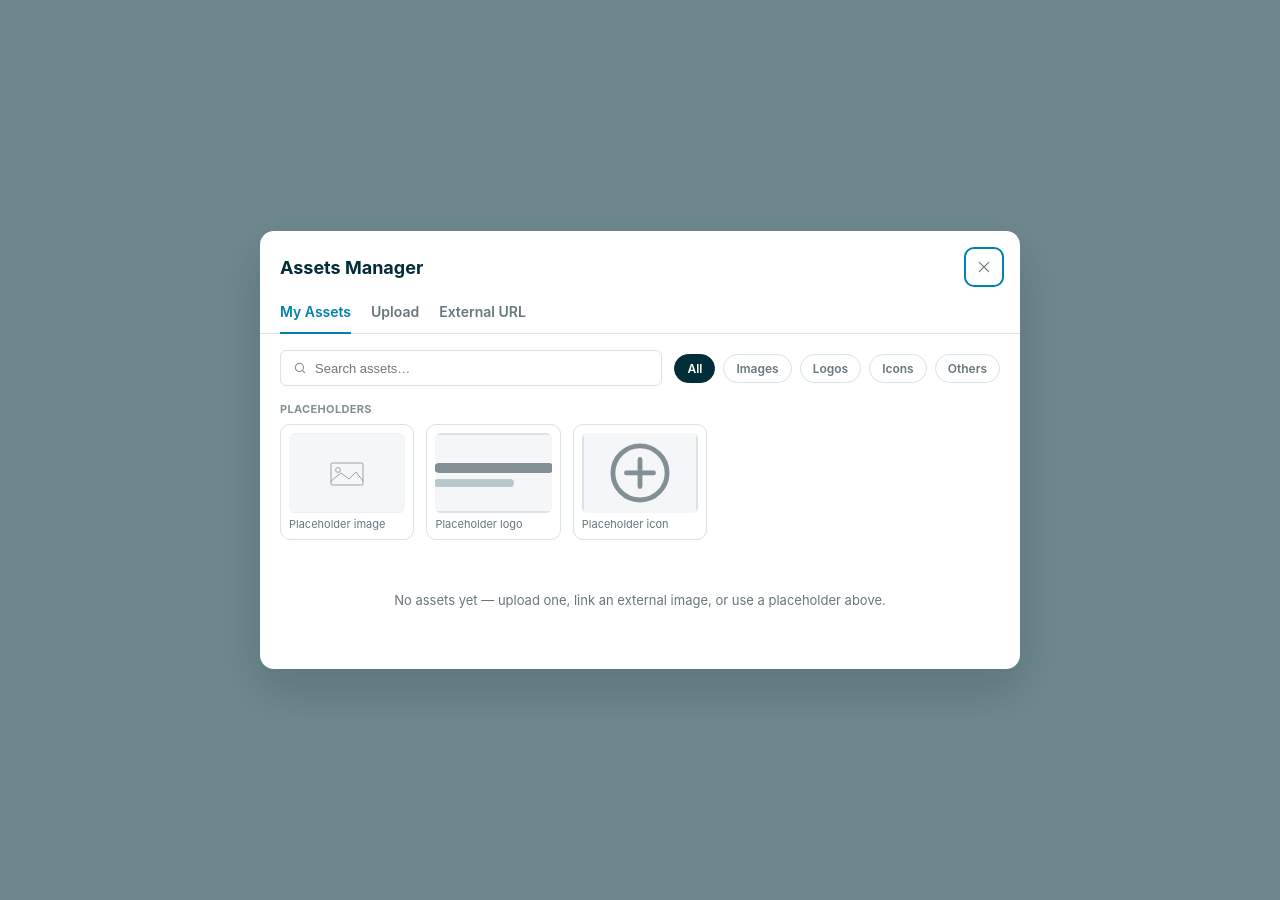
Test: AssetManagerDialog — external URL tab › requires a URL before submitting
The image size is (1280, 900).
Check: the text "Placeholder image" is shown, box [289, 517, 385, 531]
Click the tab "External URL".
click(482, 314)  # box [439, 295, 526, 334]
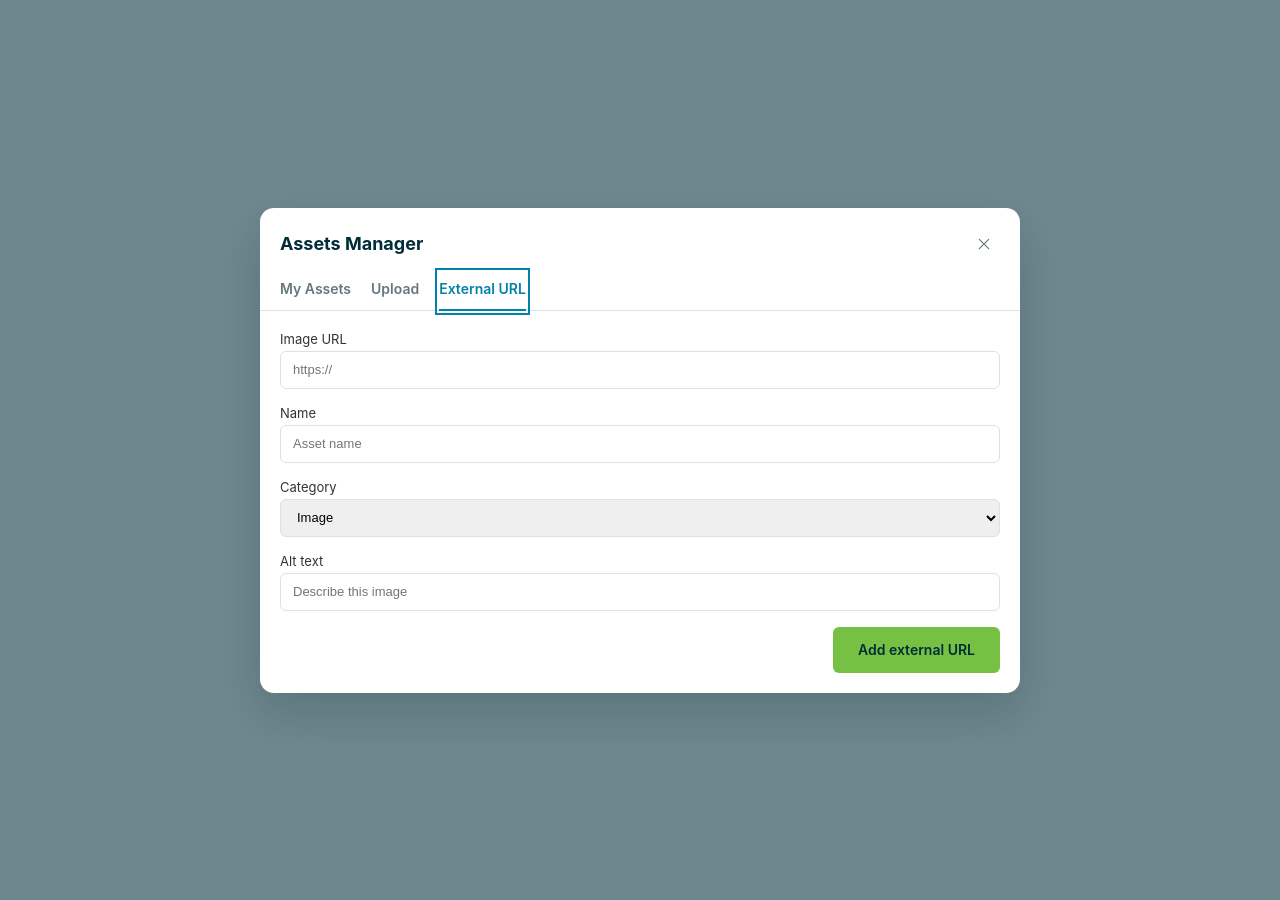
Click the button "Add external URL".
click(916, 650)  # box [833, 626, 1000, 672]
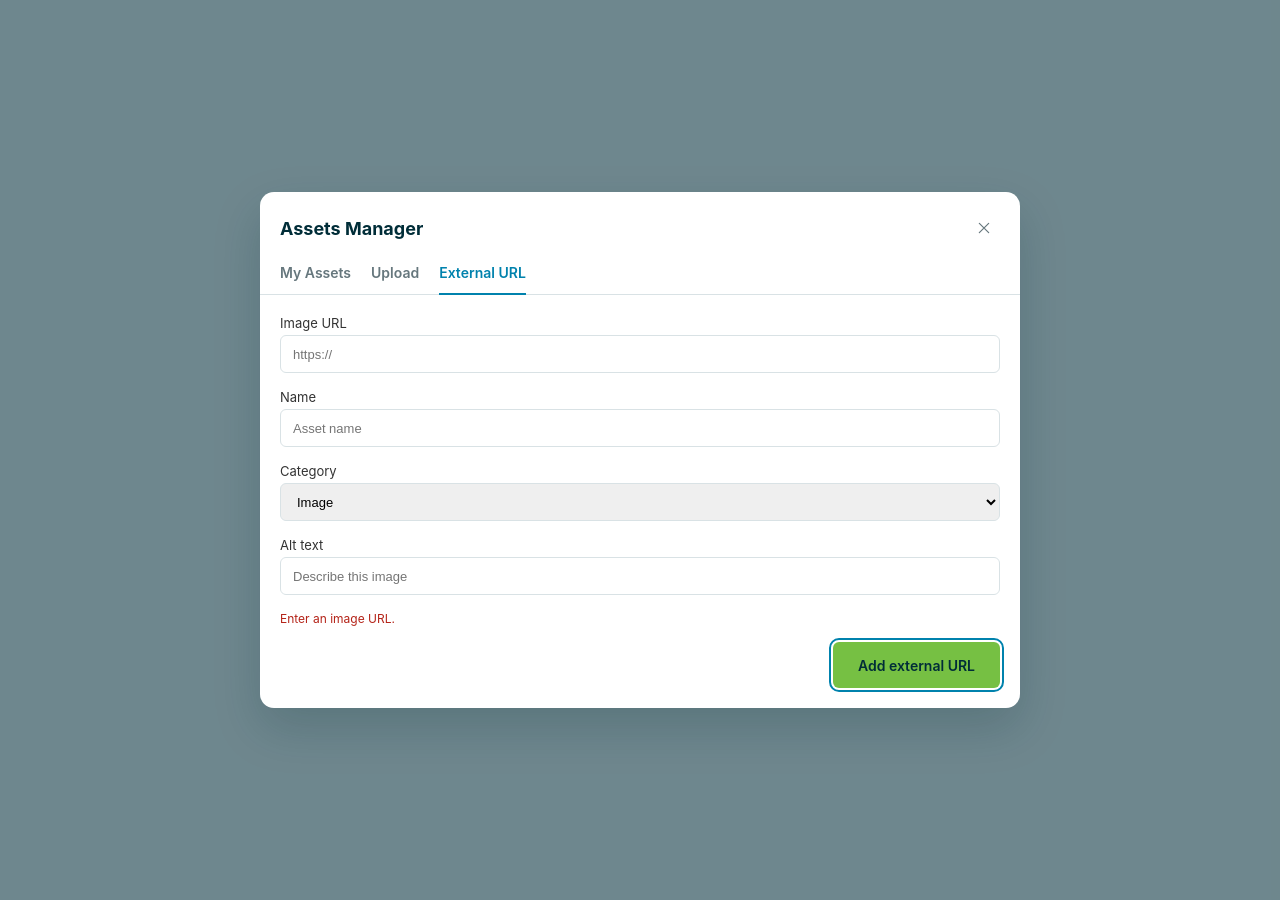
Check: the text "Enter an image URL." is shown, box [280, 611, 395, 626]
